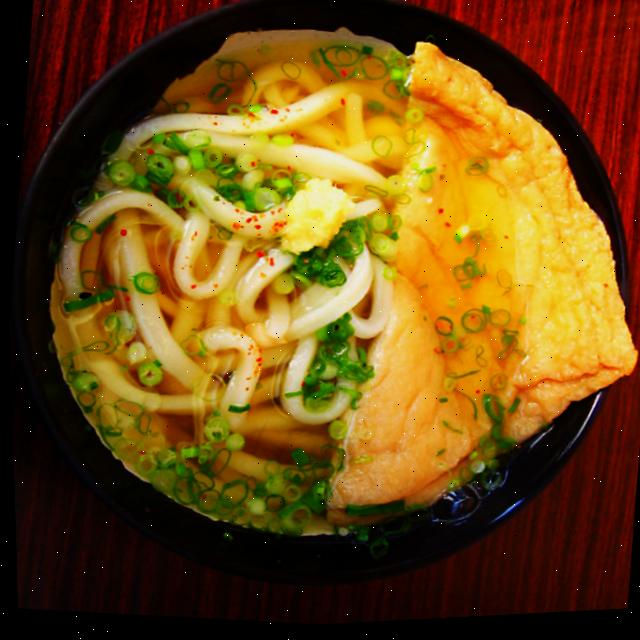面条主食: (0, 0, 634, 591)
